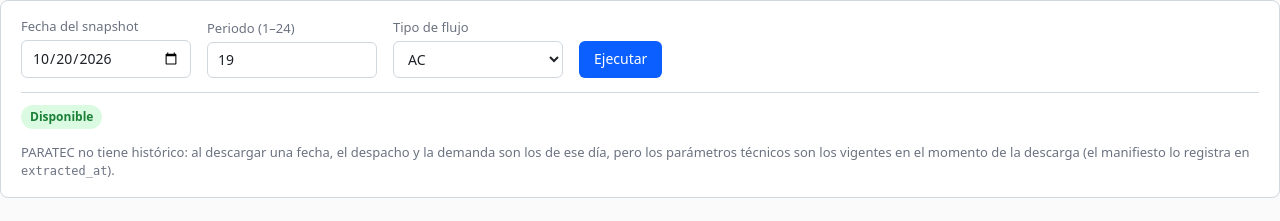
it: RunPicker › muestra el error de la descarga con el mensaje del catálogo
The width and height of the screenshot is (1280, 221).
In the date field with test id "snapshot-date": coordinates (106, 59) [21, 40, 191, 78], type "2026-10-18"
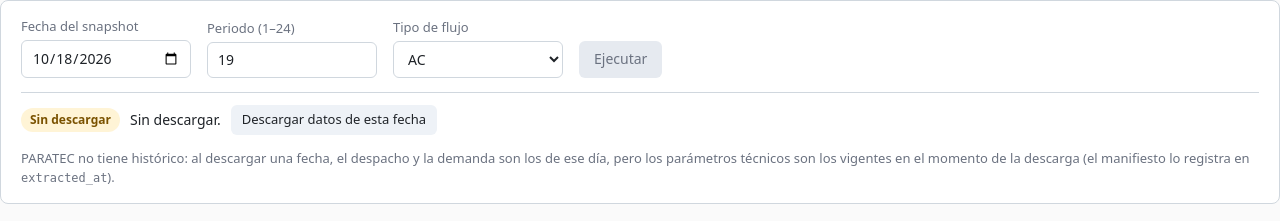
Click the button with test id "scrape-button": coordinates (334, 120) [231, 105, 437, 135]
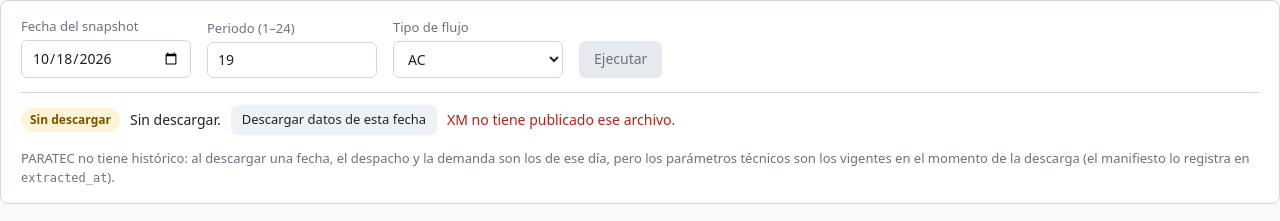
Expected: the button with test id "scrape-button" is shown, [231, 105, 437, 135]
Expected: the message with test id "scrape-error" shows "XM no tiene publicado", [447, 110, 675, 129]
